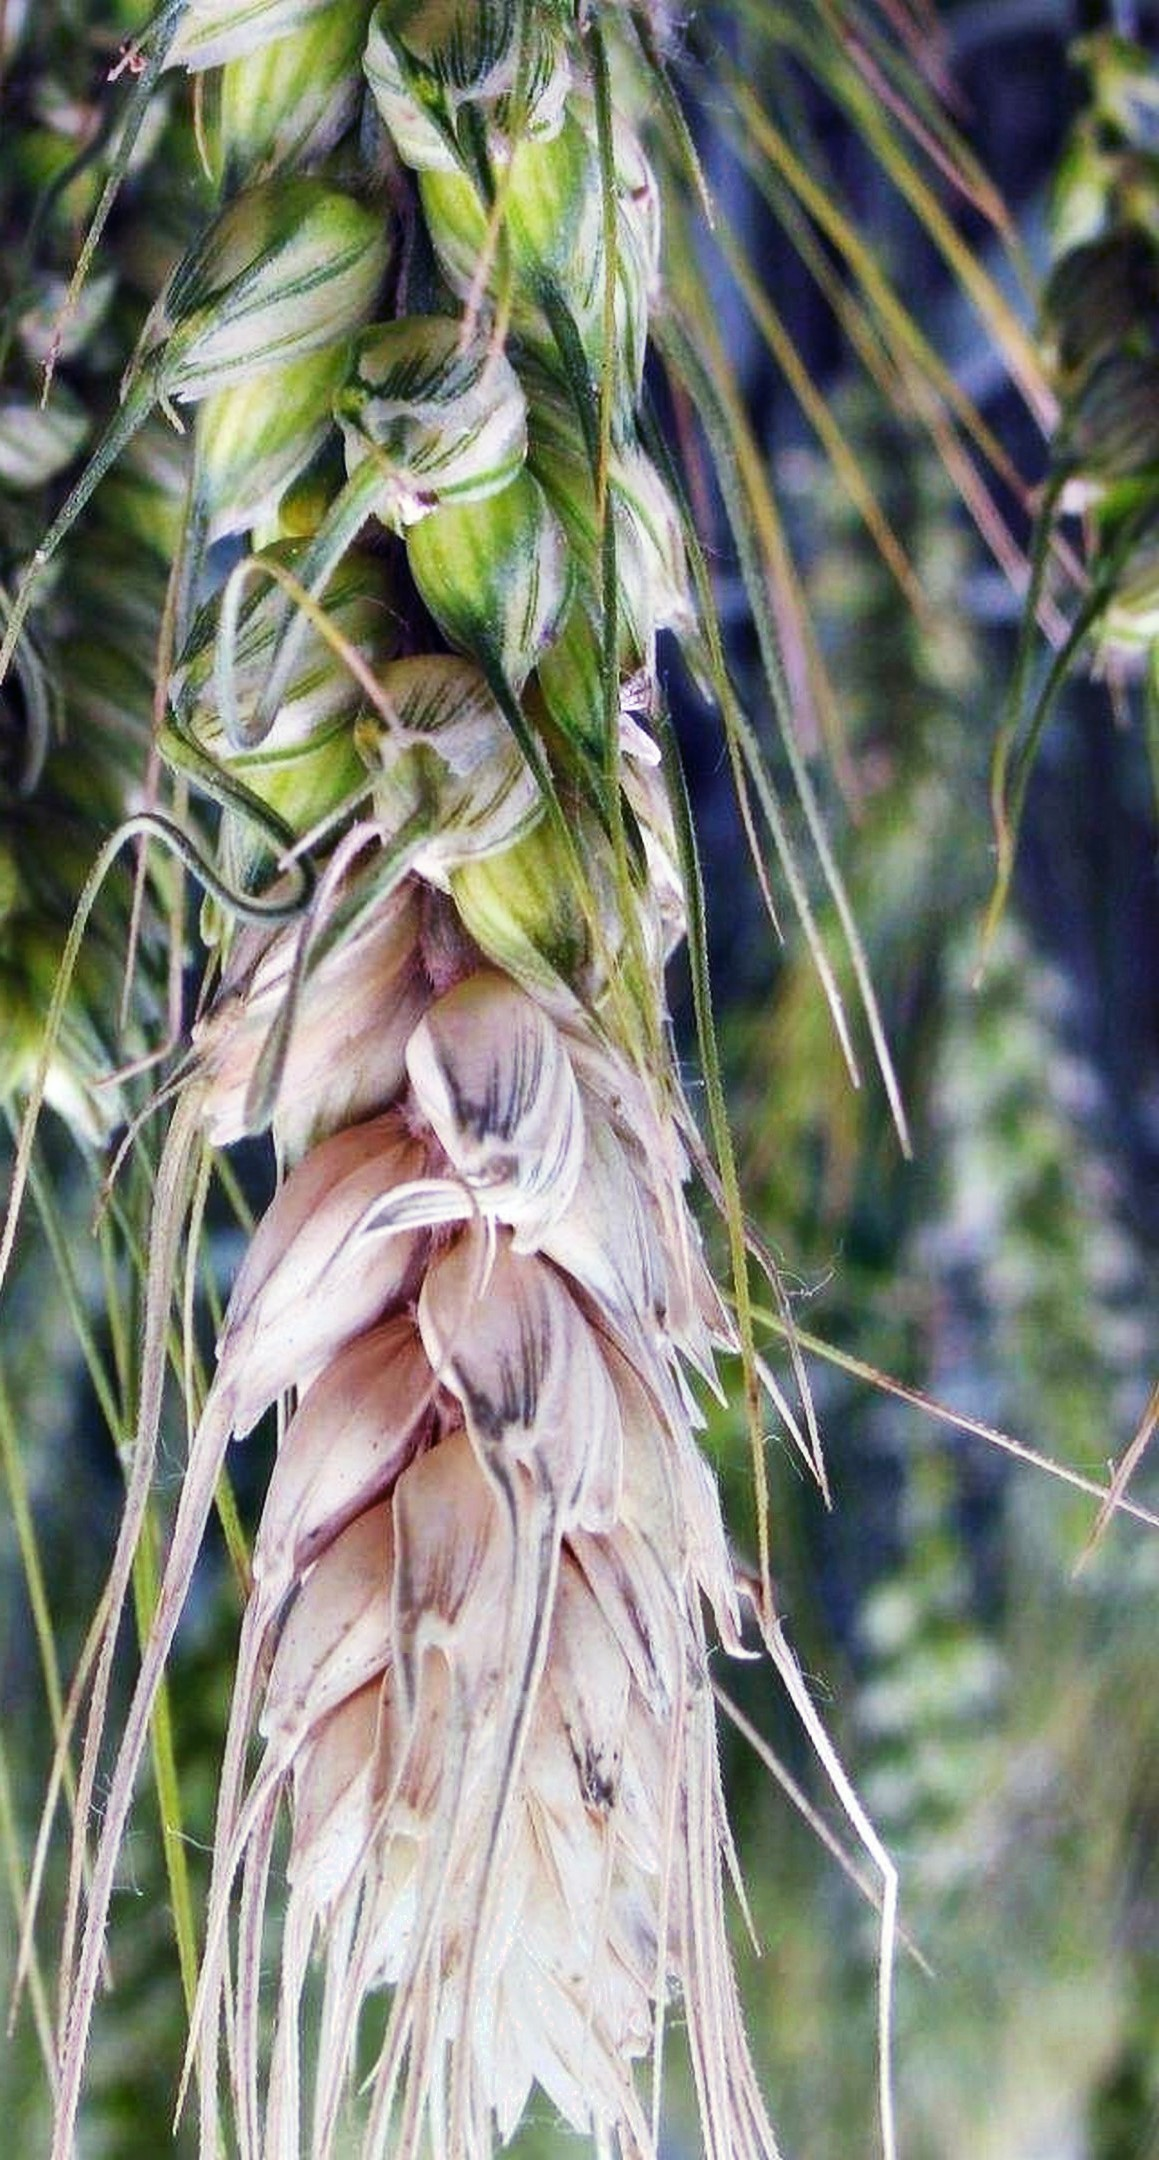Wheat scab: (101, 51, 810, 2160)
